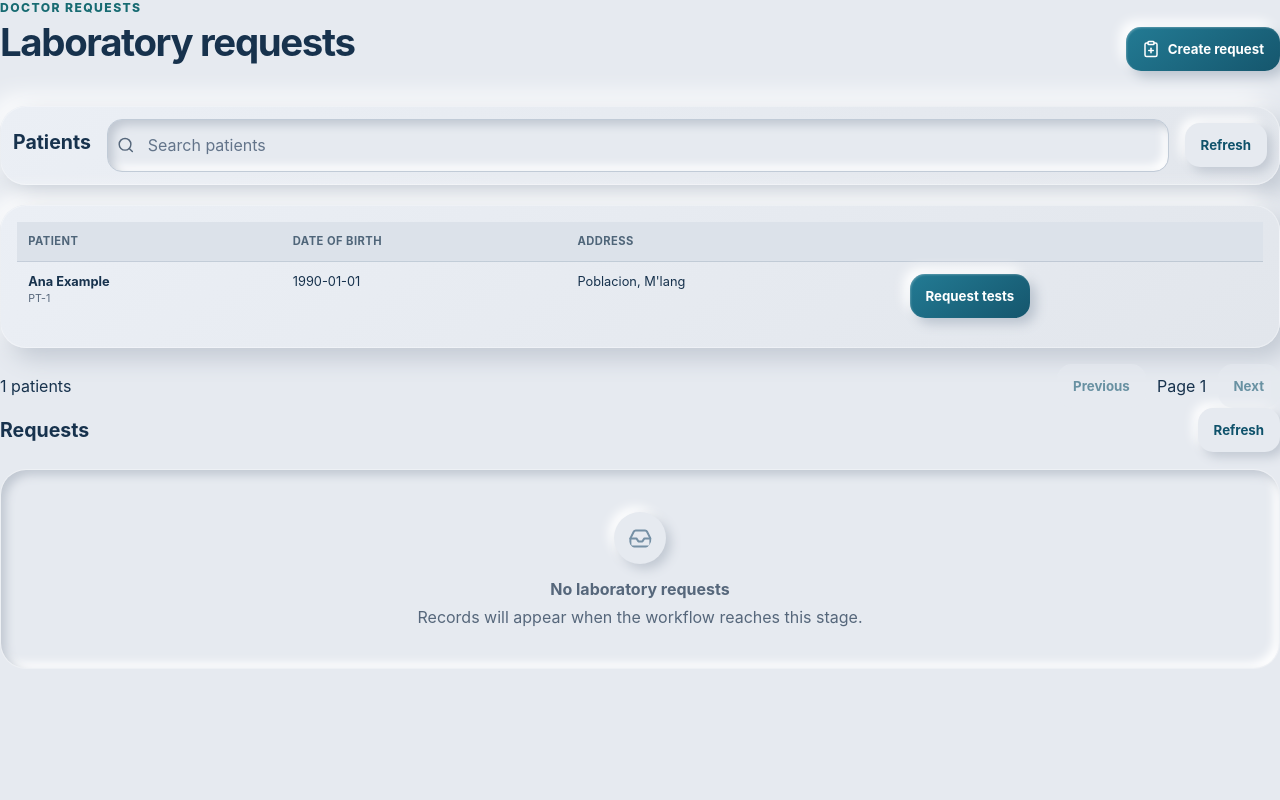
patient-based laboratory requests › selects tests by name and submits automatically linked IDs
Click the button "Request tests" at (970, 296), box [910,274,1030,318]
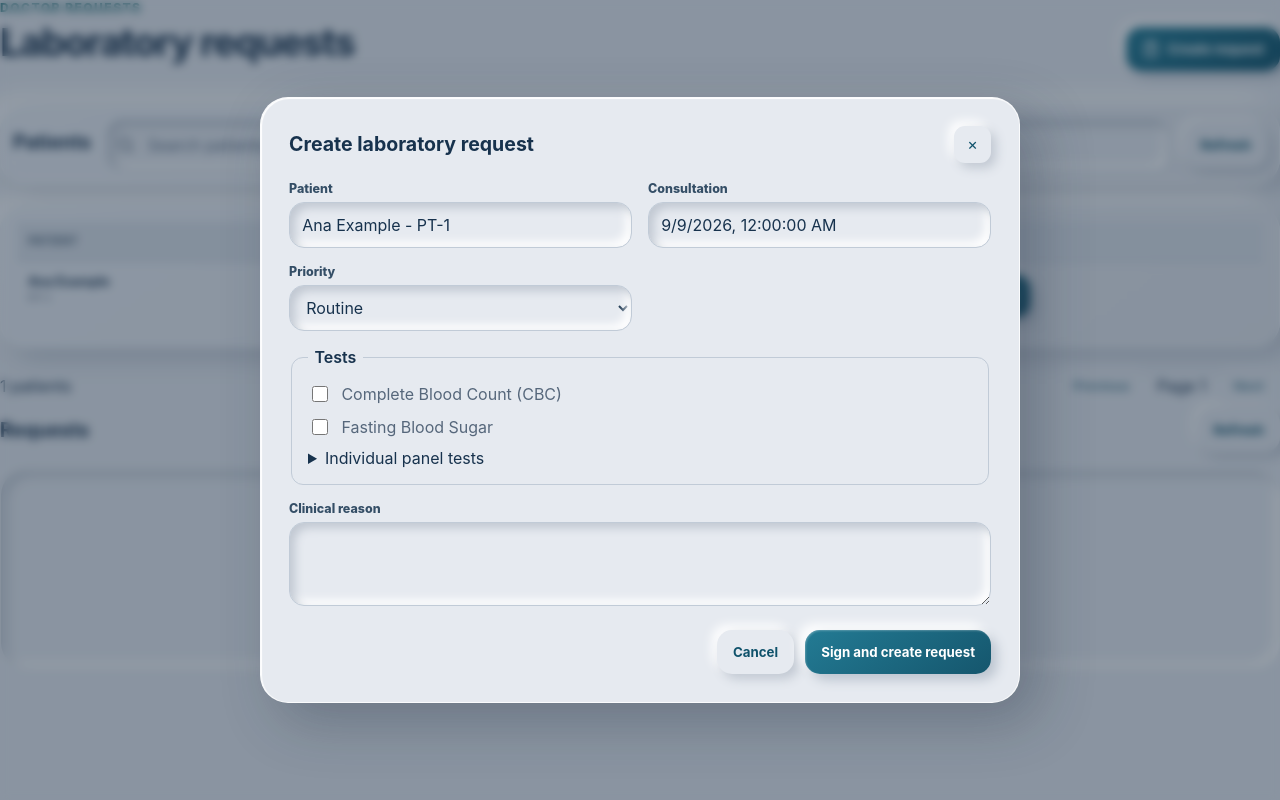
Result: the checkbox labelled "Fasting Blood Sugar" is shown at [312,419,328,435]
Result: the field labelled "Patient" holds "Ana Example - PT-1" at [289,202,632,248]
Click the checkbox labelled "Complete Blood Count (CBC)" at (320, 394), box [312,386,328,402]
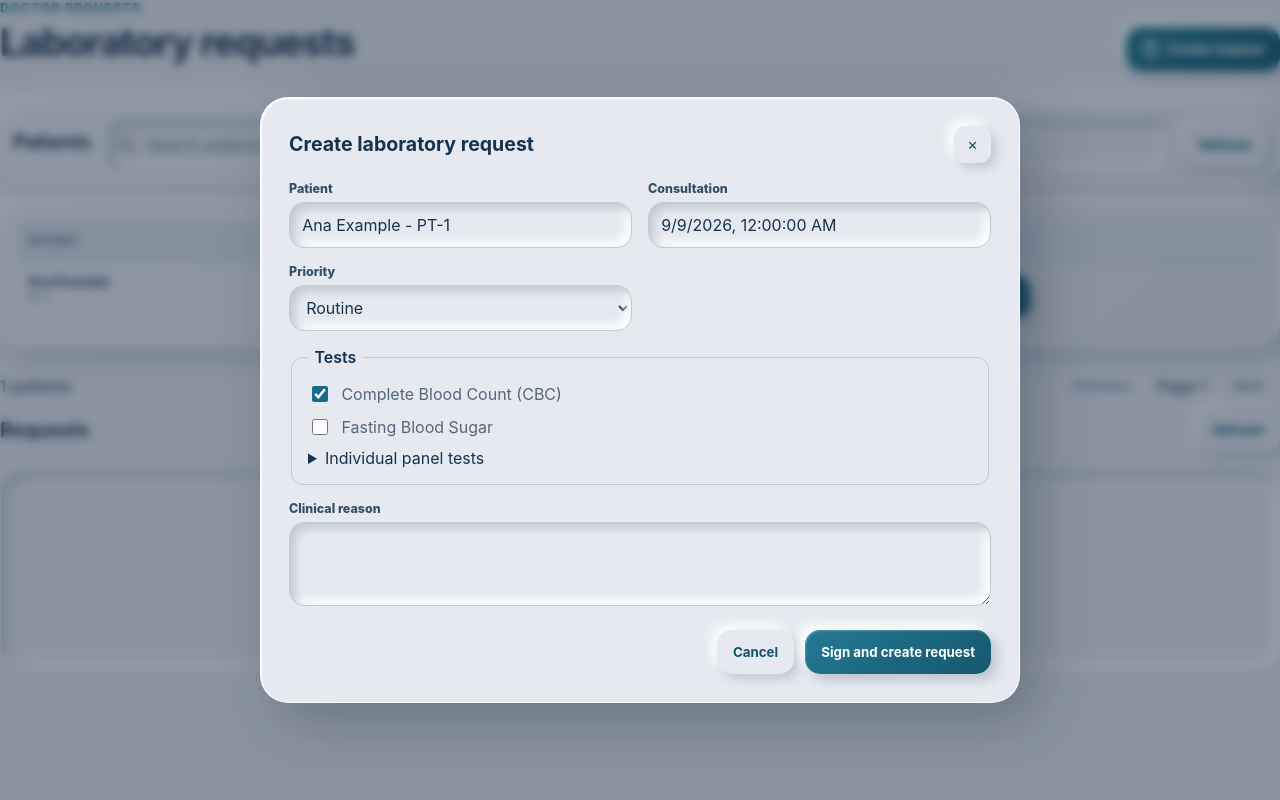
Click the checkbox labelled "Fasting Blood Sugar" at (320, 427), box [312,419,328,435]
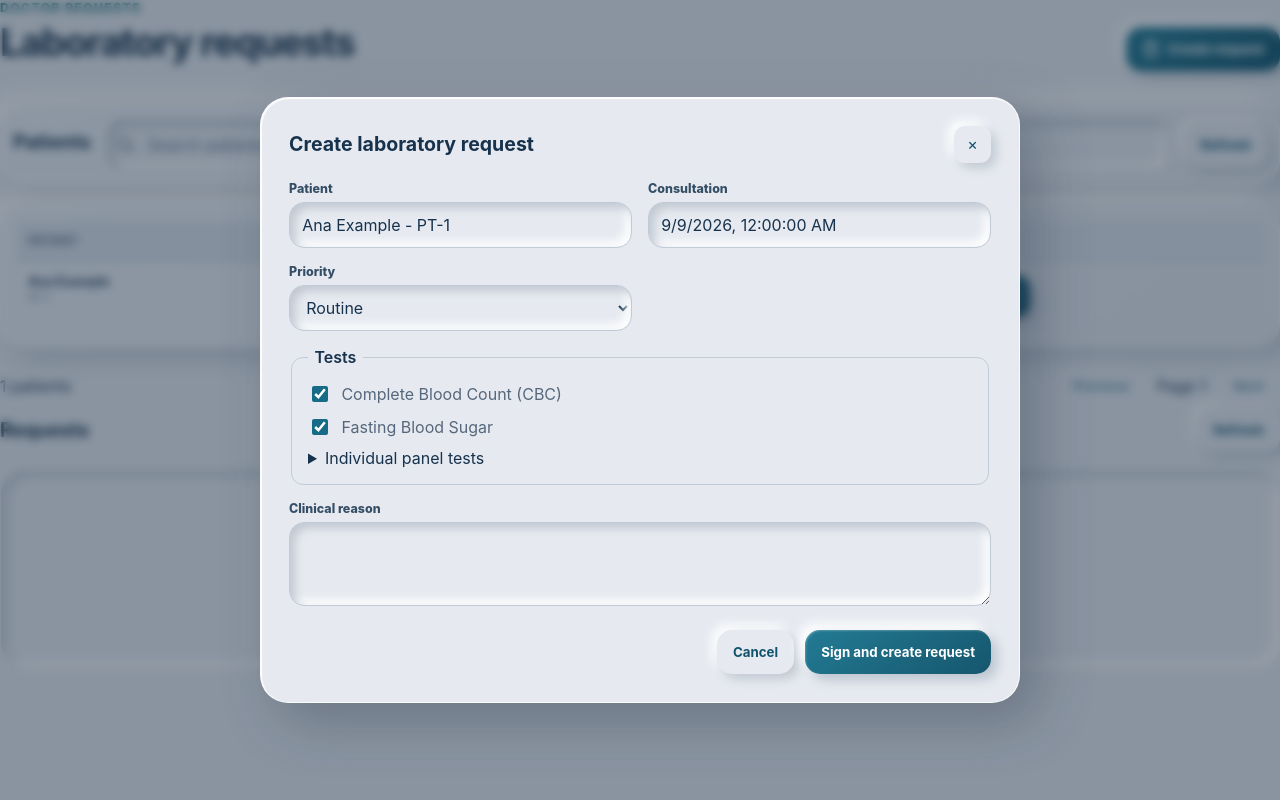
Type "Evaluation" into the text box labelled "Clinical reason" at (640, 564), box [289,522,991,606]
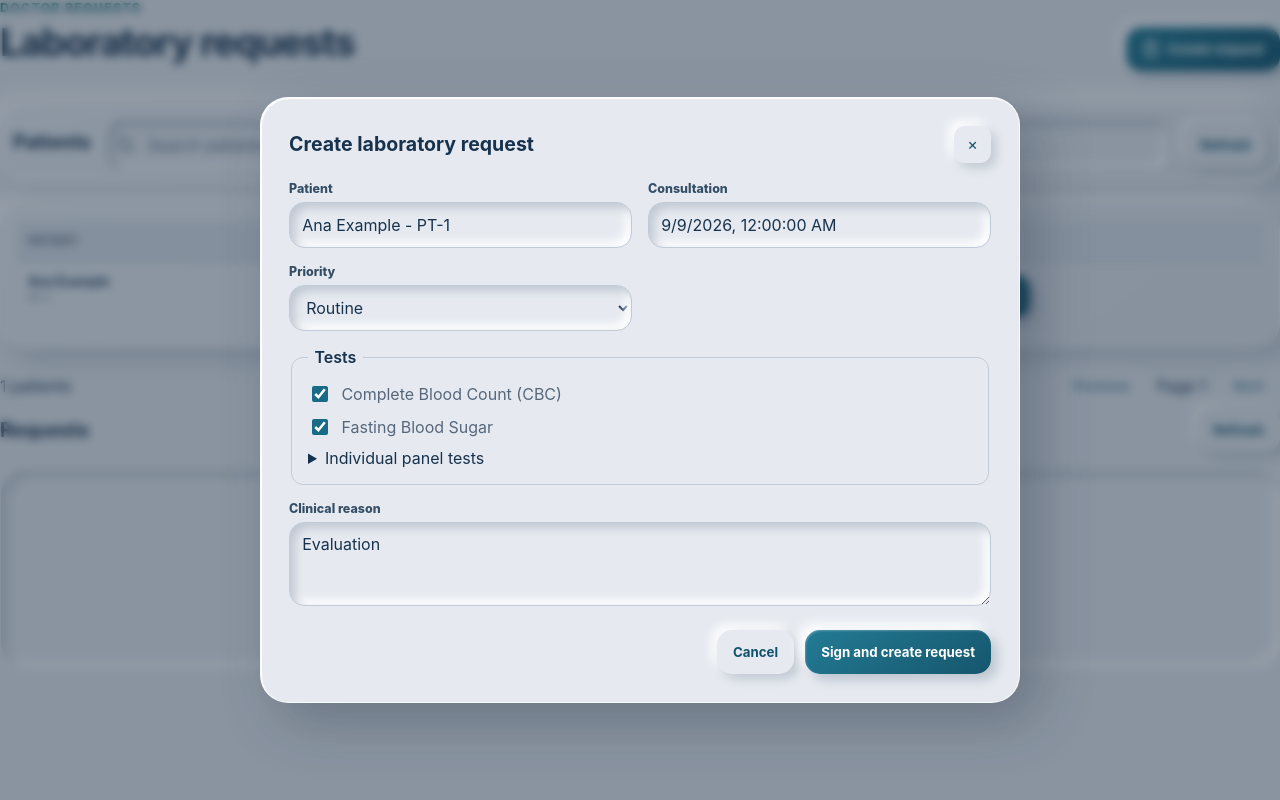
Click the button "Sign and create request" at (898, 652), box [805,630,991,674]
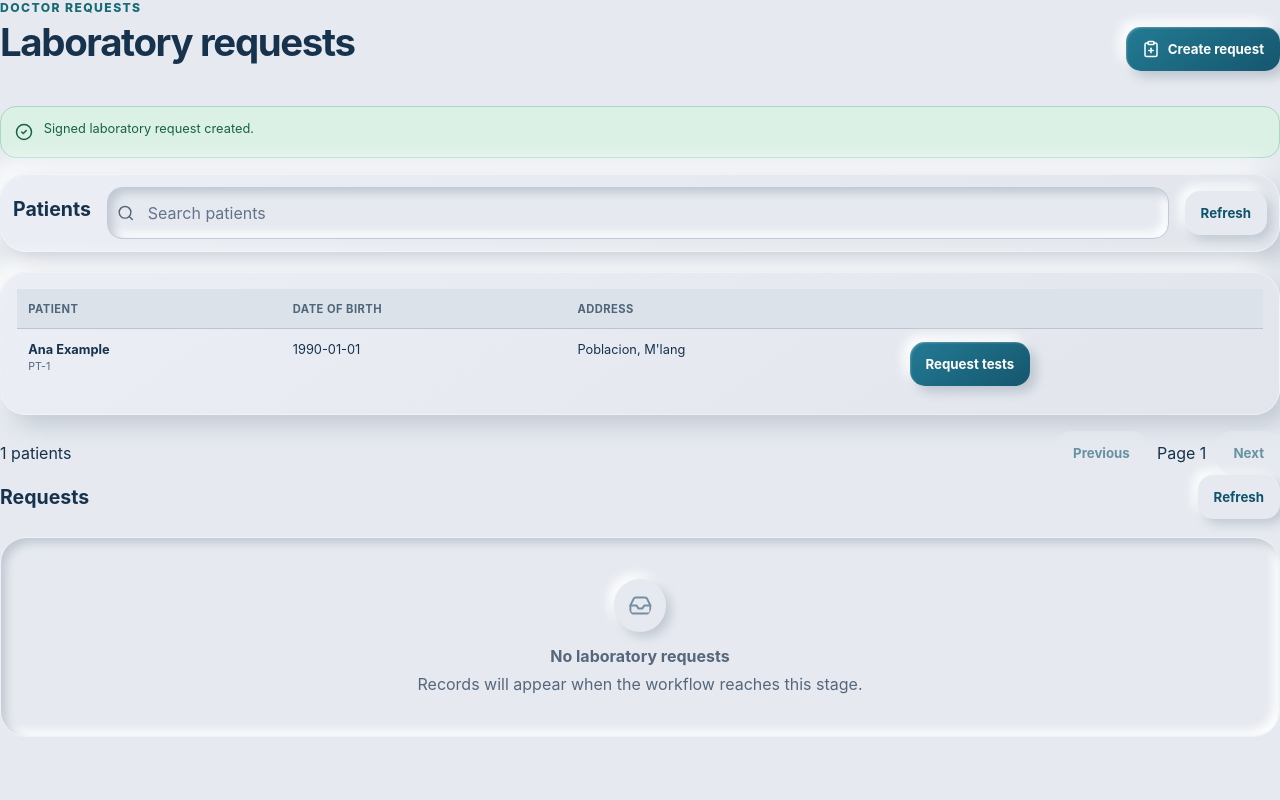
Result: the text "Signed laboratory request created." is shown at [44,120,254,138]
